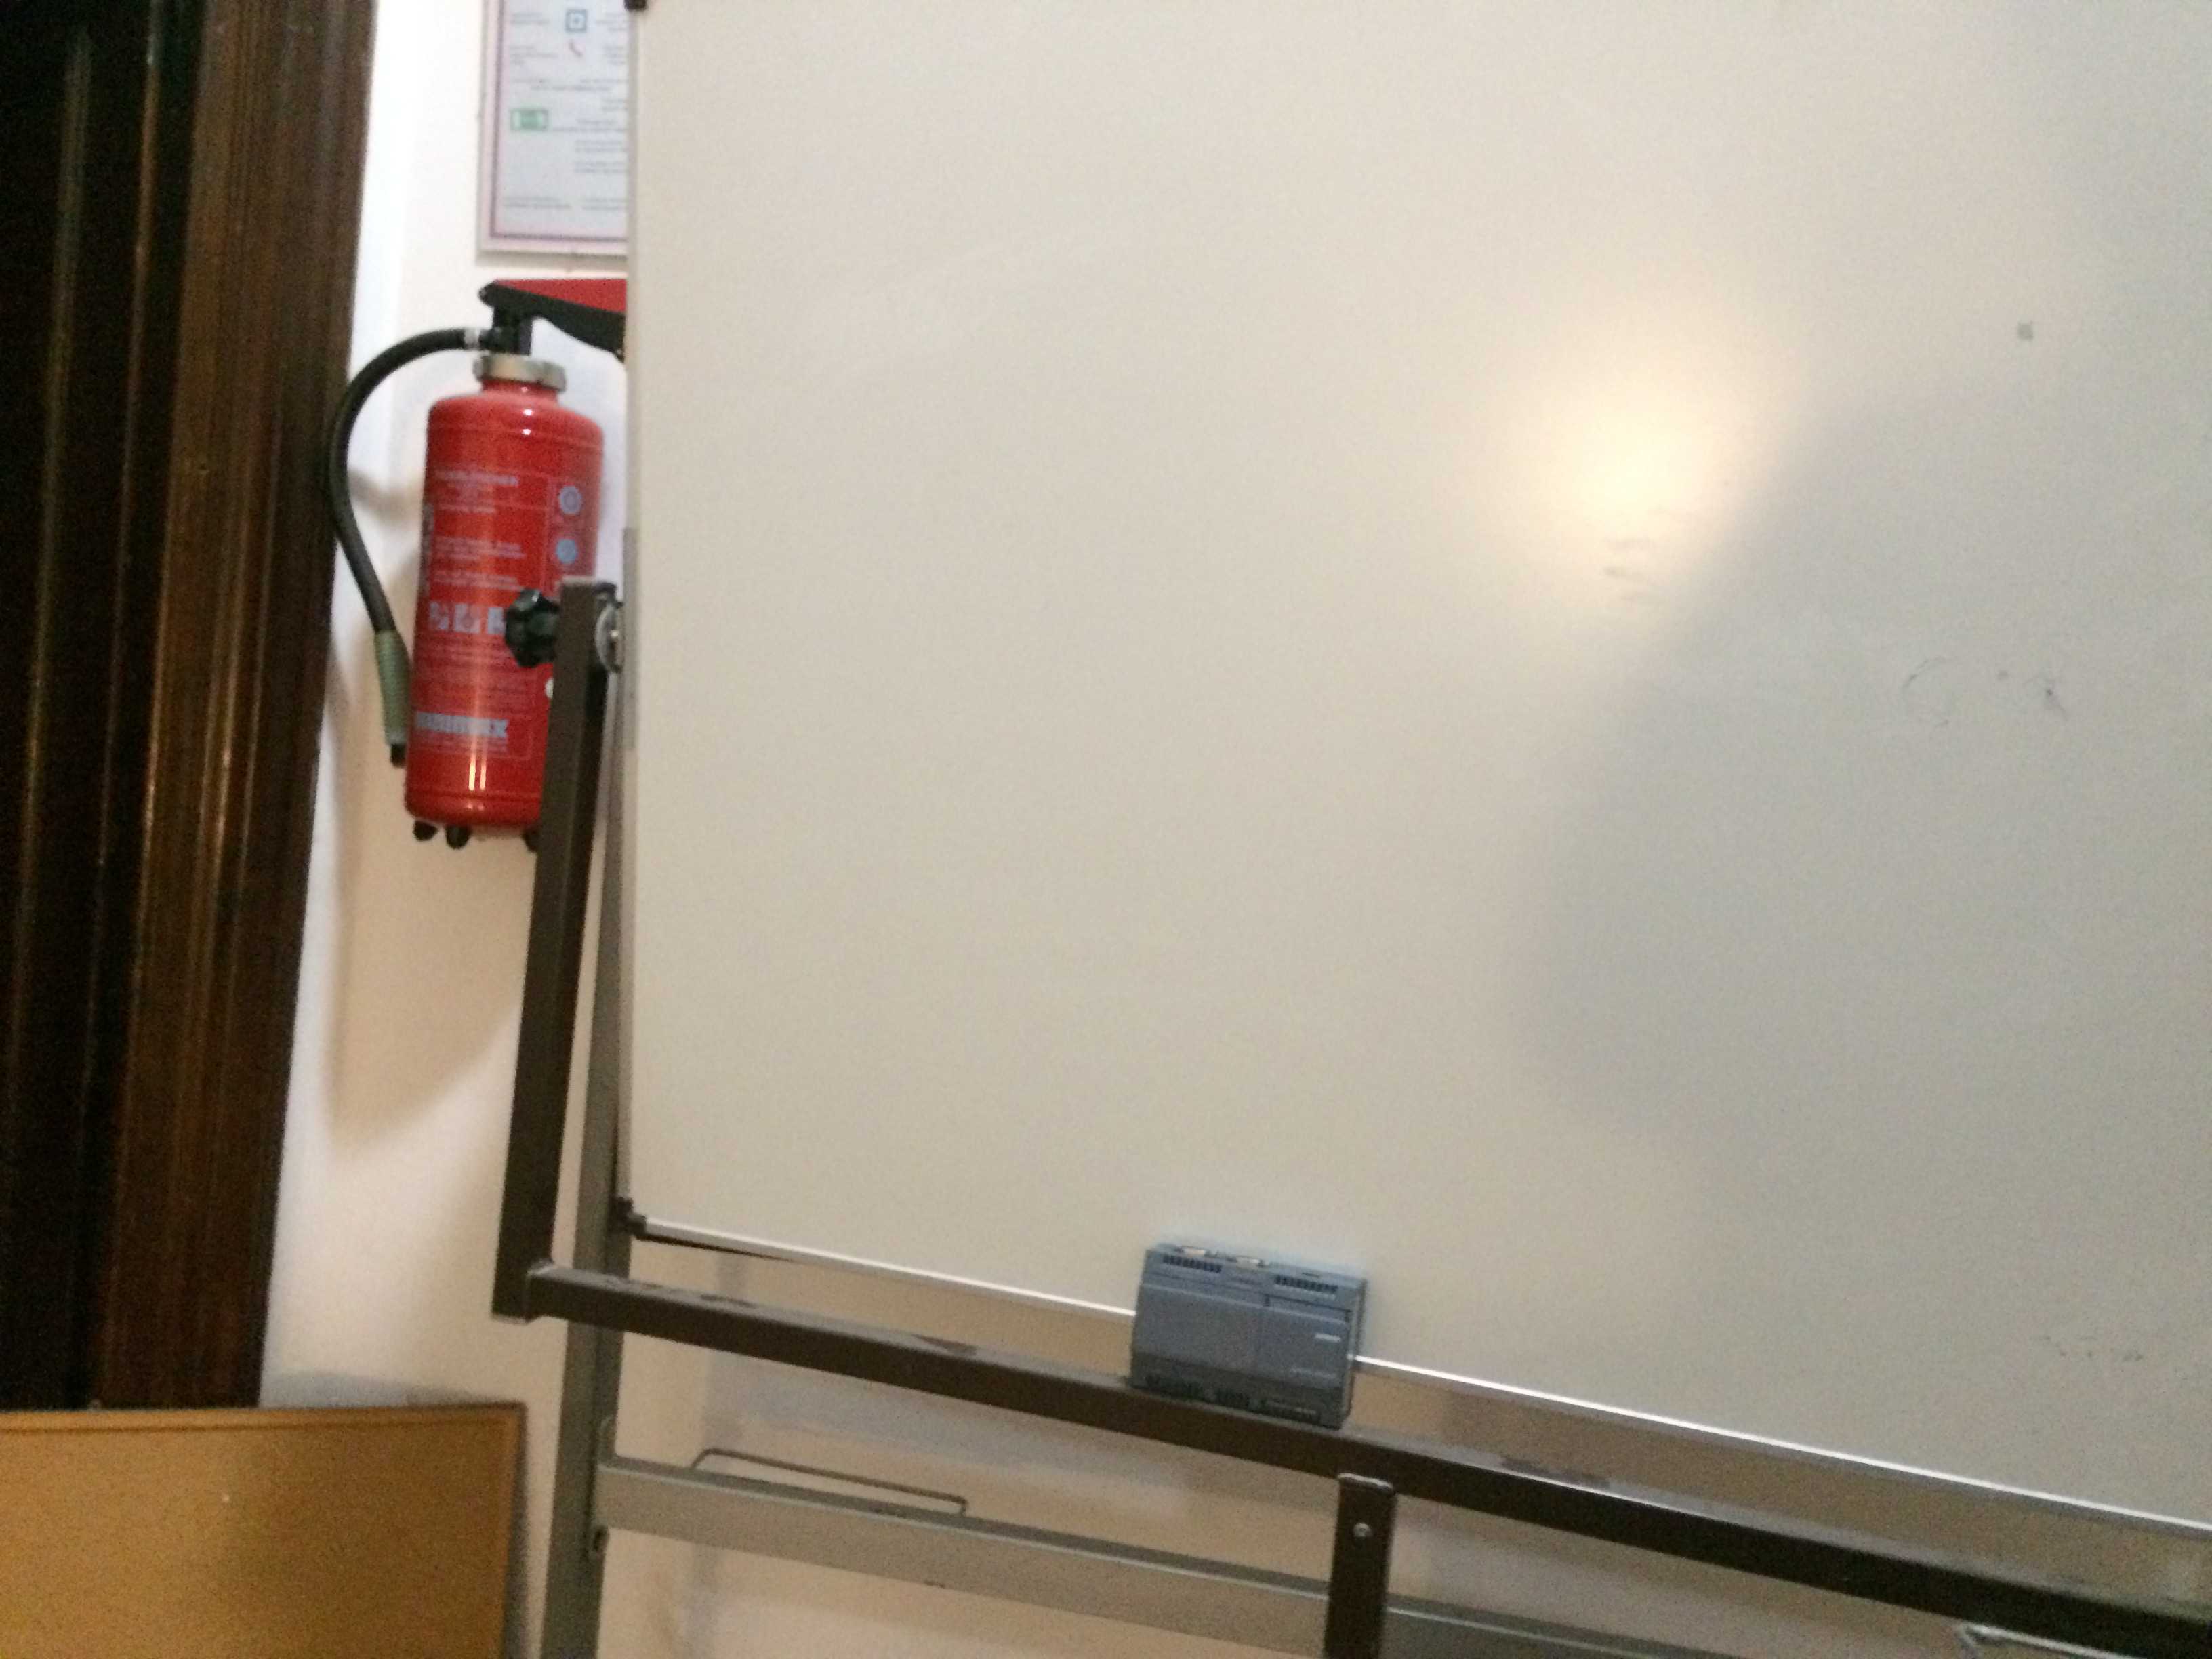iot2000: (1125, 1237, 1372, 1438)
